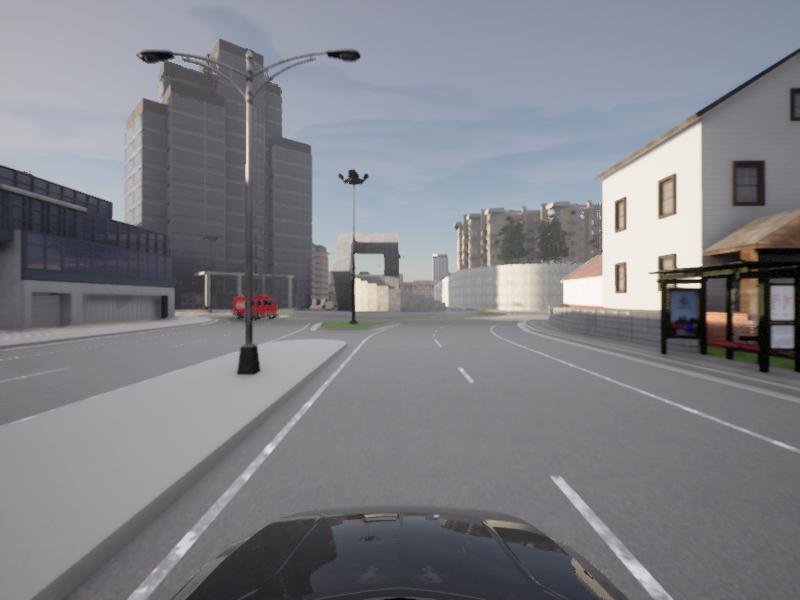vehicle: (230, 295, 282, 320)
